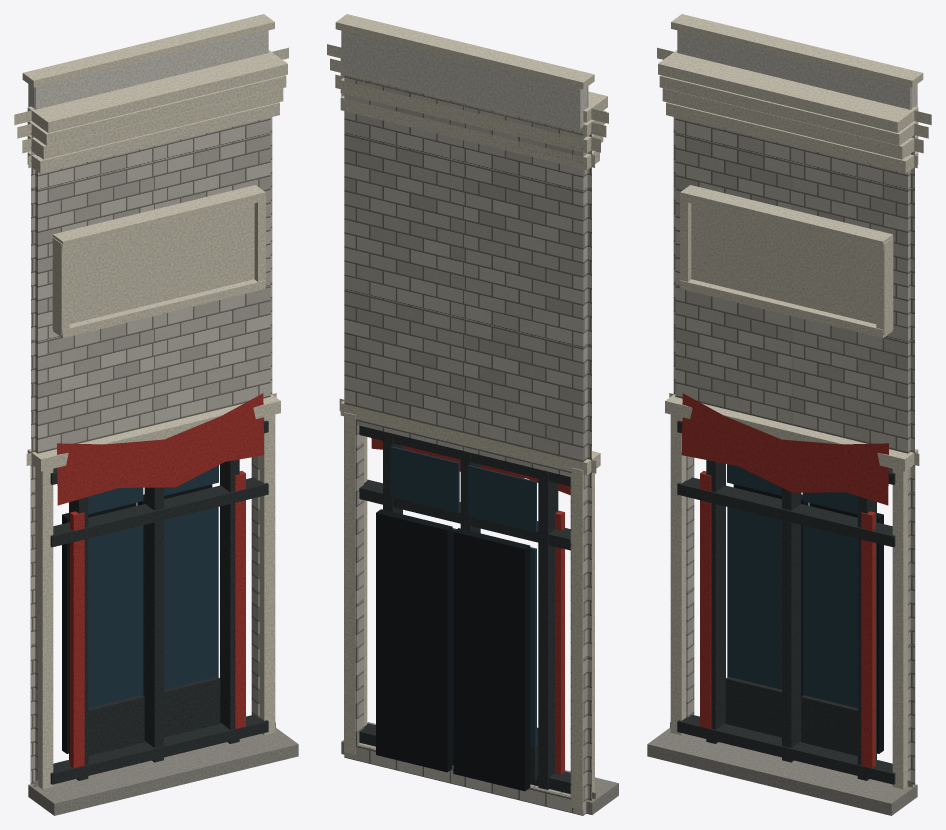
The model's file is BUSS4_lod2.glb.
3 renders of one model, left to right at view 1: azimuth 30°, elevation 25°; view 2: azimuth 150°, elevation 25°; view 3: azimuth 330°, elevation 25°, orthographic. The views are drawn at different scales.
Parts seen in each view (by area): view 1: BUSS4_FRONT_LOD2; view 2: BUSS4_FRONT_LOD2; view 3: BUSS4_FRONT_LOD2.
Part boxes in pixels (box(x1,y1,x2,y2)): BUSS4_FRONT_LOD2: box(14, 14, 298, 815); BUSS4_FRONT_LOD2: box(327, 14, 618, 815); BUSS4_FRONT_LOD2: box(647, 14, 931, 815).
Bounding box in the file's own units: 3.78 × 9.44 × 1.
9 materials, 7 textured.
